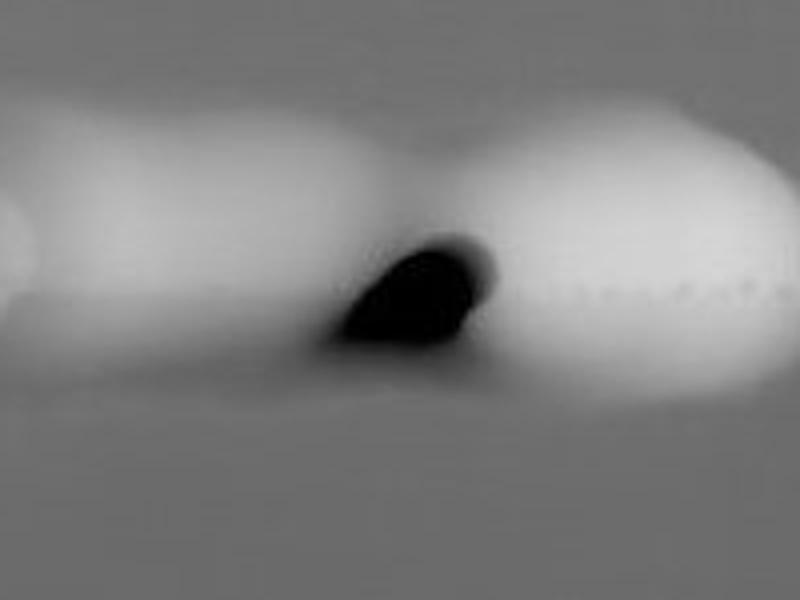defect: (338, 242, 478, 351)
